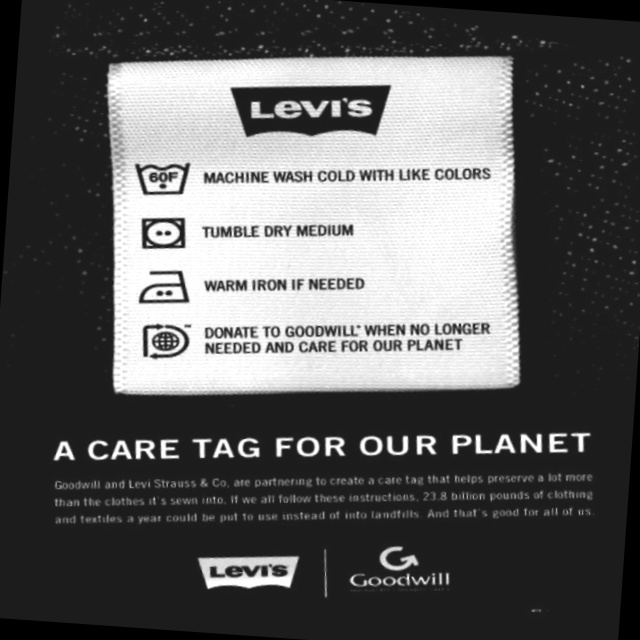30C: (123, 141, 205, 213)
iron_medium: (126, 252, 204, 321)
tumble_dry_medium: (127, 203, 200, 266)
